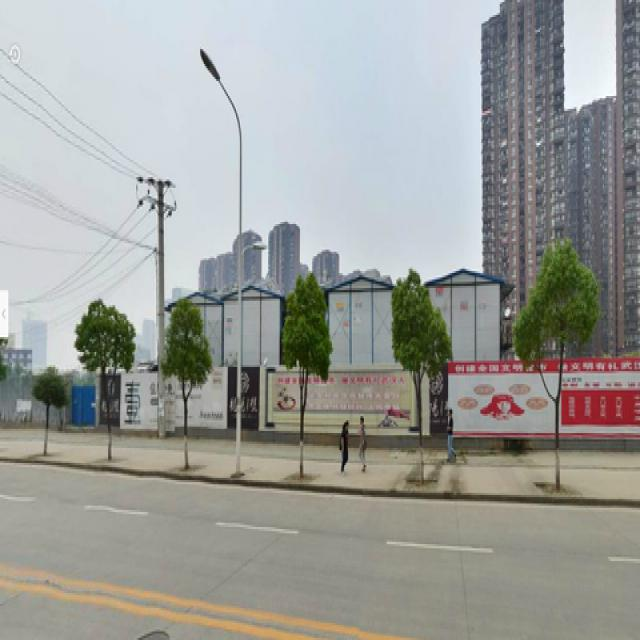cinn: (393, 280, 443, 482), (539, 241, 580, 478), (75, 288, 129, 461), (281, 279, 320, 476), (168, 296, 205, 469)
